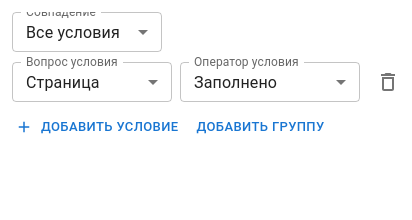
Test: form builder focused editors › offers only empty operations for opaque page links
Click the dropdown named "Оператор условия".
click(236, 82)  # box [194,72,277,92]
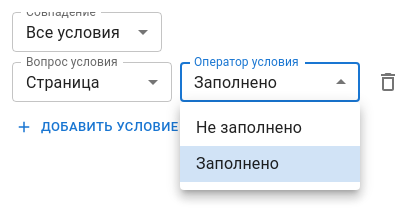
Now the option "Не заполнено" is shown, box [196,118,302,137]
Now the option "Заполнено" is shown, box [180,146,360,182]
